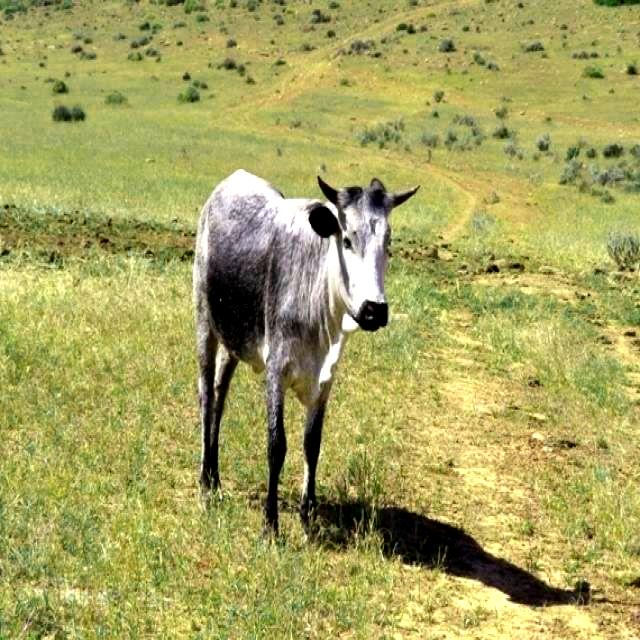COW: (194, 170, 418, 536)
